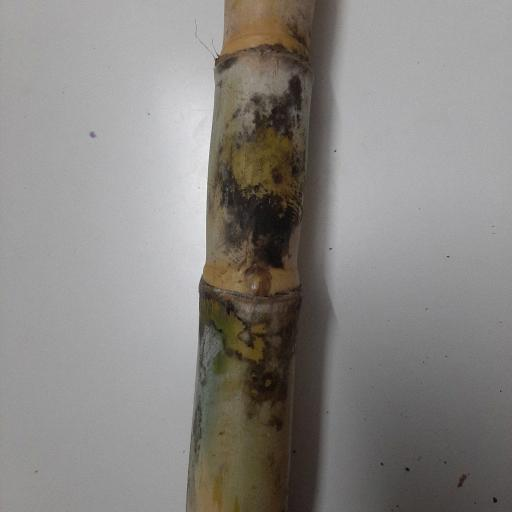Bud: (247, 271, 272, 297)
